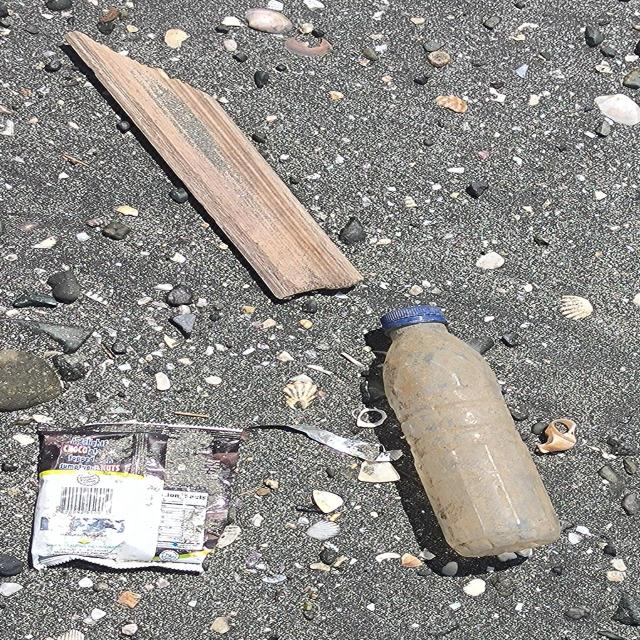plastic_waste: (380, 307, 565, 559), (32, 423, 246, 574)
wood_waste: (64, 32, 366, 300)
